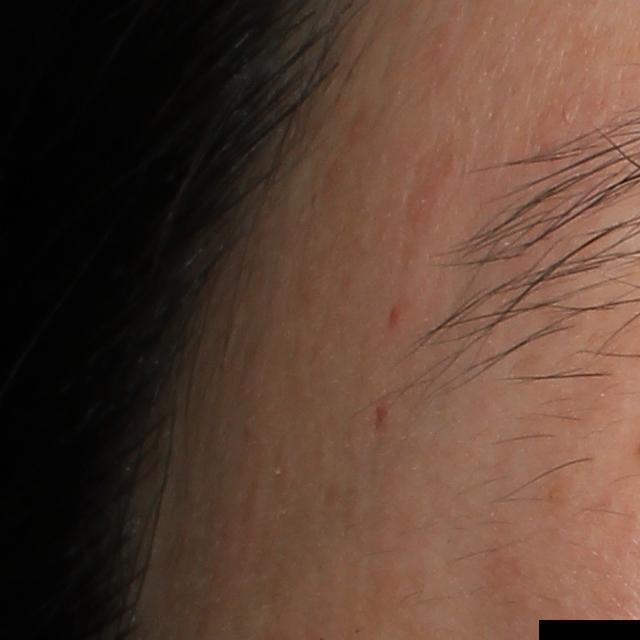papule: (372, 394, 392, 438), (385, 301, 405, 331)
